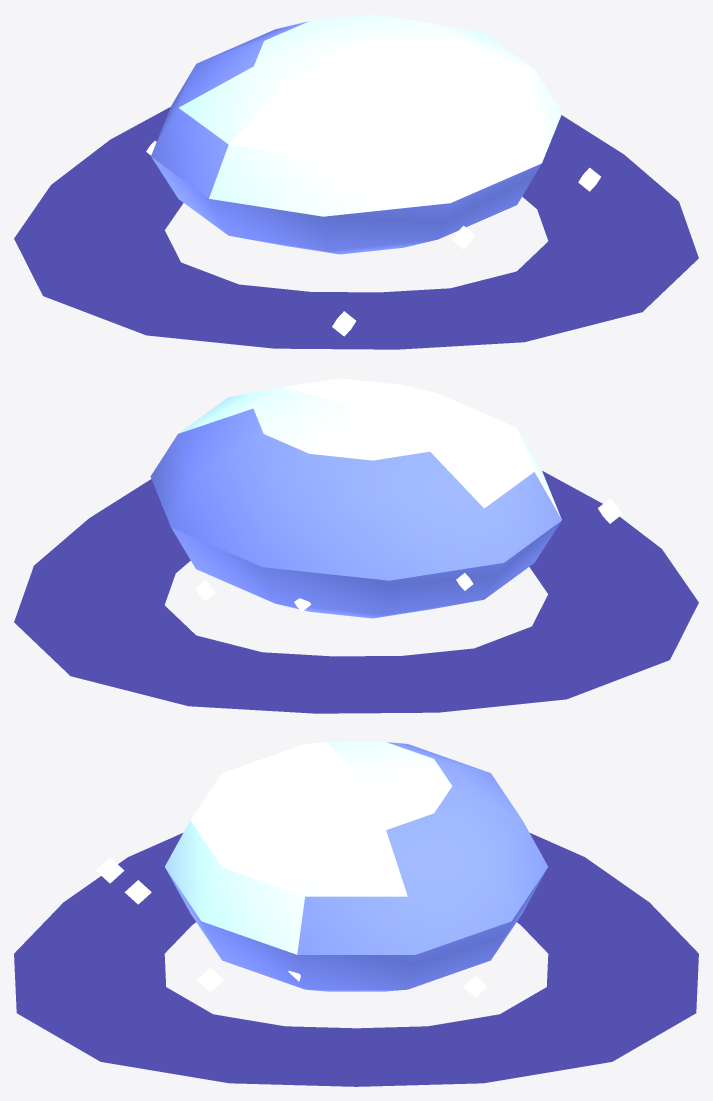
File: dwarf_galaxy.glb
The picture shows the model from 3 angles, top to bottom: view 1: azimuth 30°, elevation 25°; view 2: azimuth 150°, elevation 25°; view 3: azimuth 270°, elevation 25°; orthographic projection. The views are drawn at different scales.
Visible parts, largest first — view 1: body; view 2: body; view 3: body.
Boxes of the visible parts, box(x1,y1,x2,y2) form: body: box(14, 14, 698, 349); body: box(14, 378, 698, 713); body: box(14, 742, 698, 1086).
Size of the model in its own units: 200 by 60 by 200.
